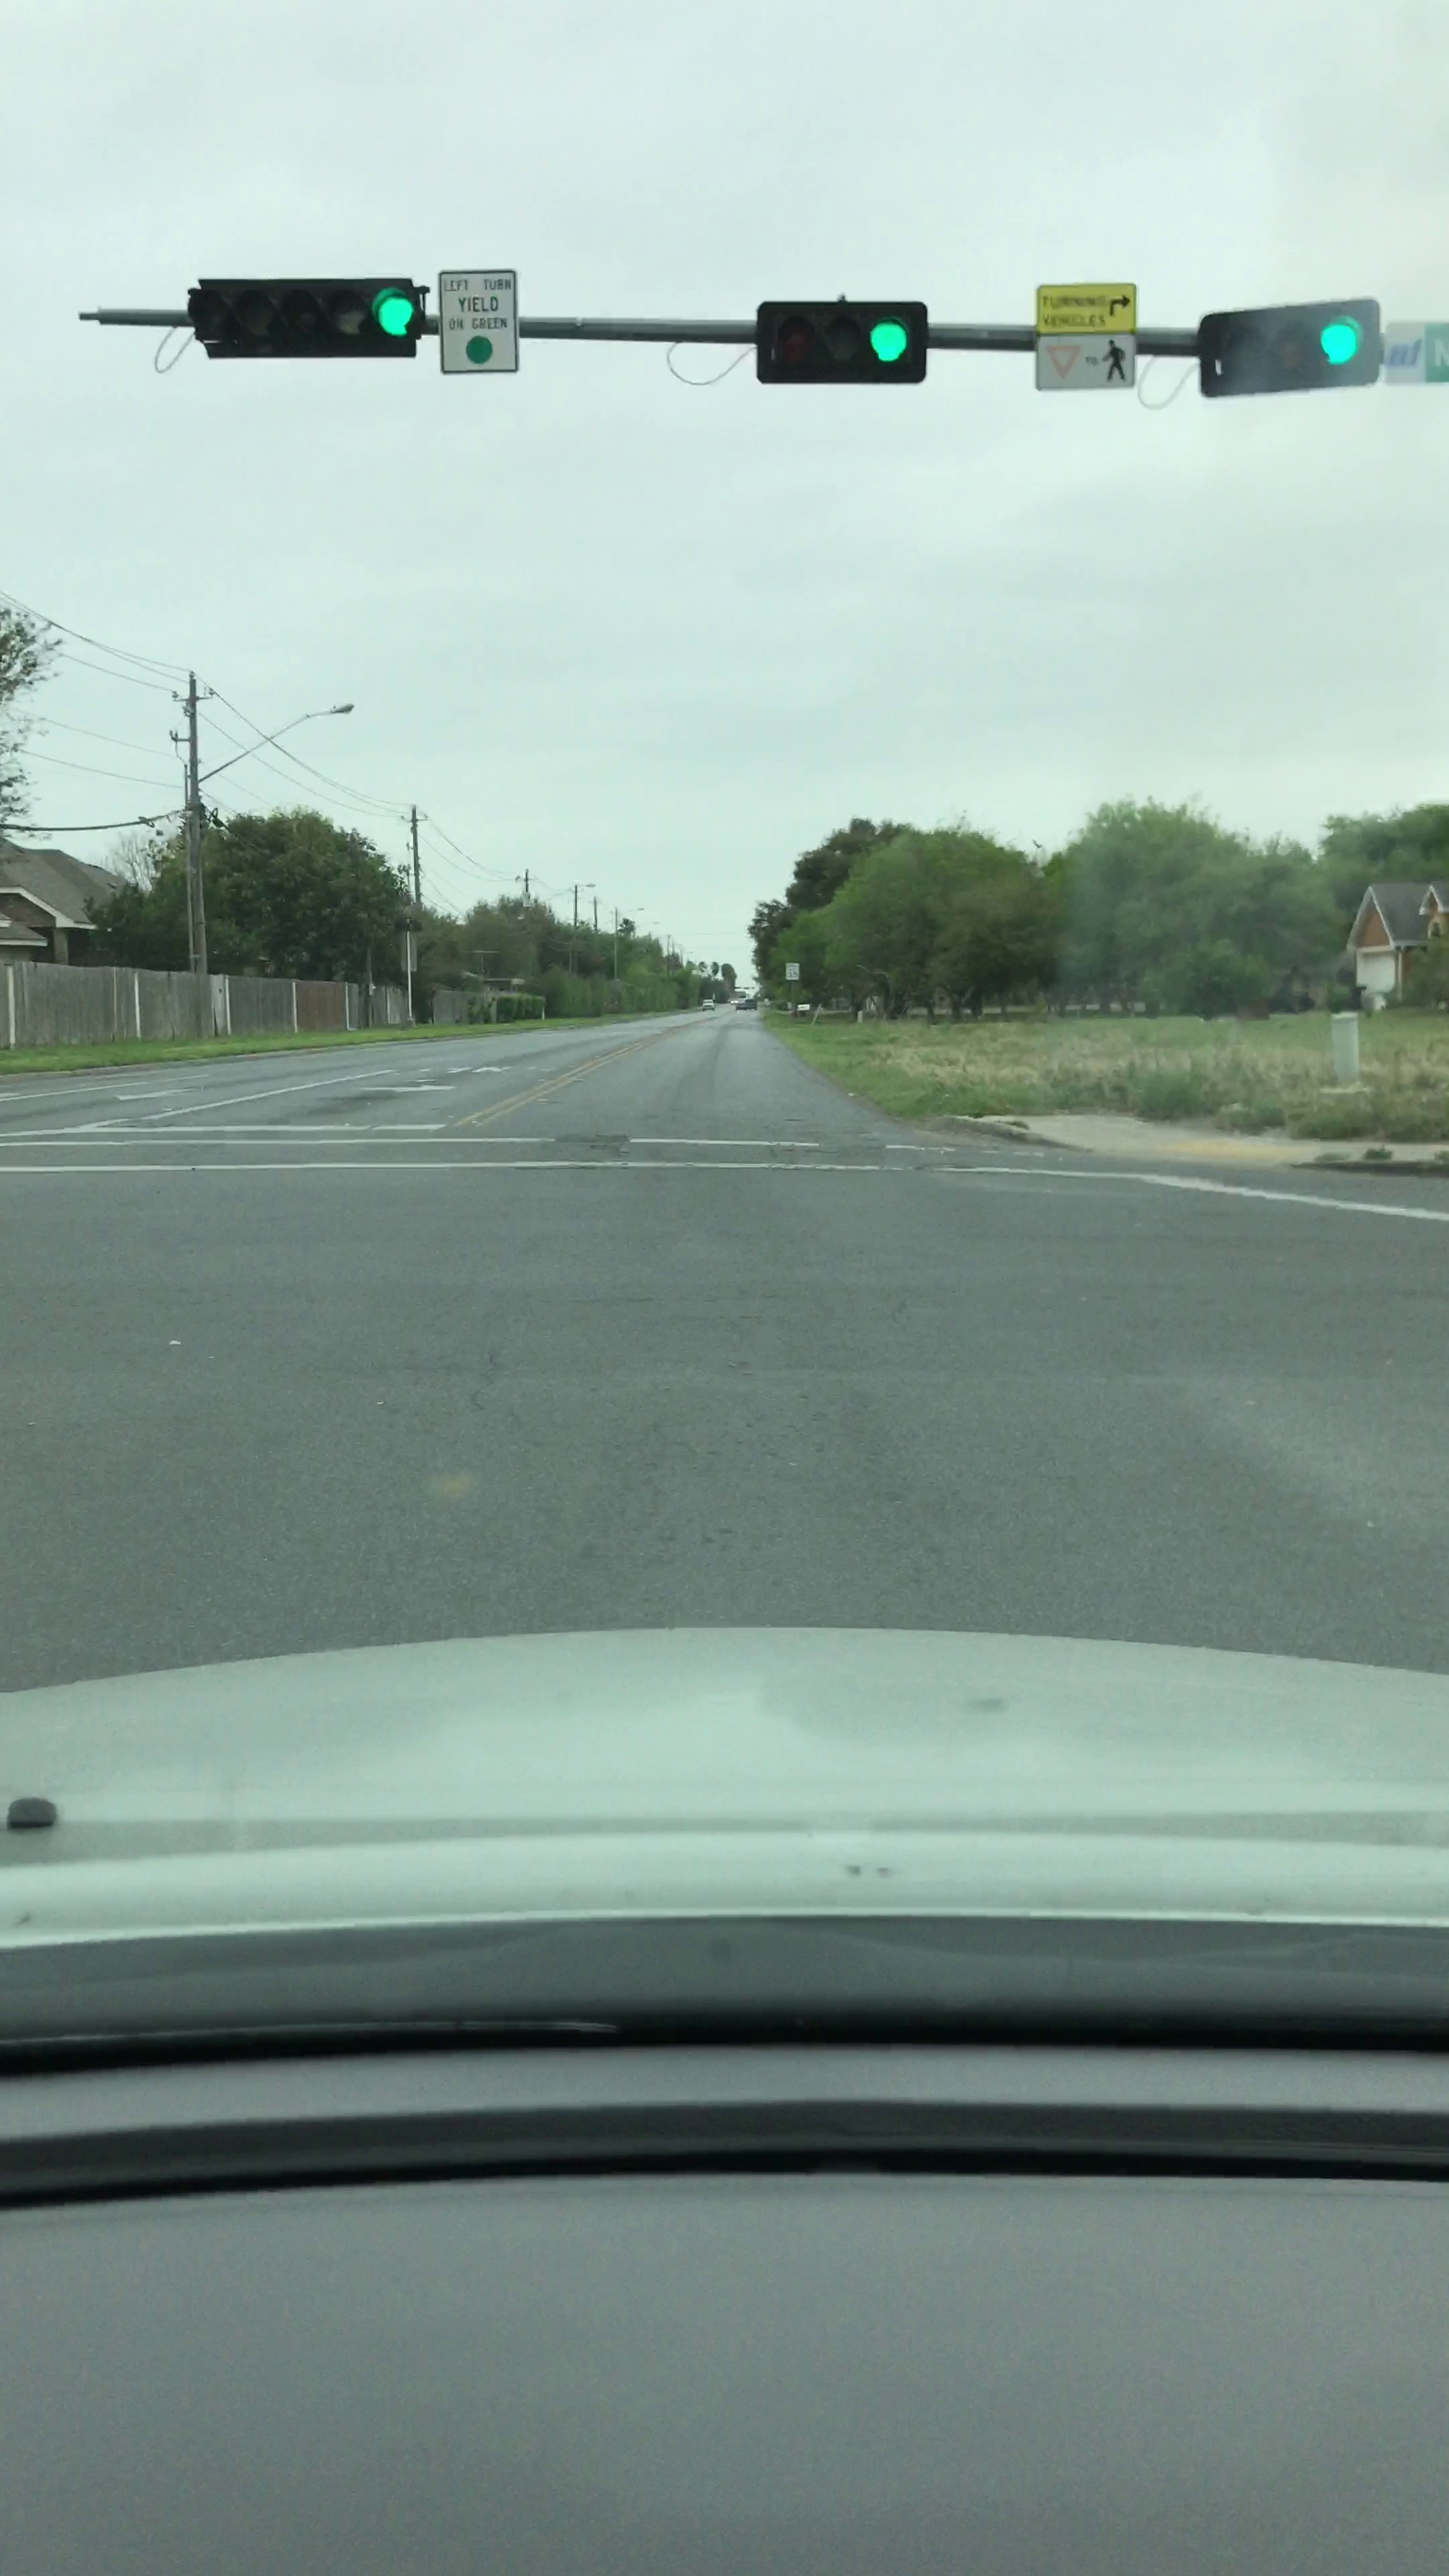blurredLine: (12, 1113, 918, 1208)
